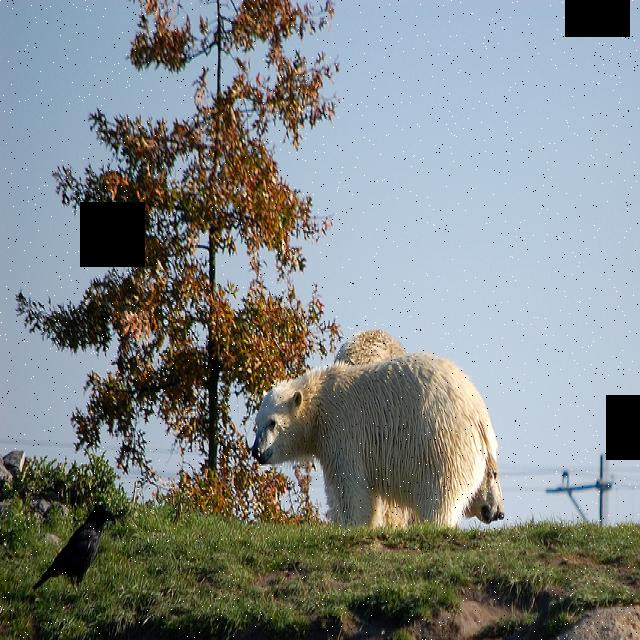Bear: (249, 331, 511, 537)
